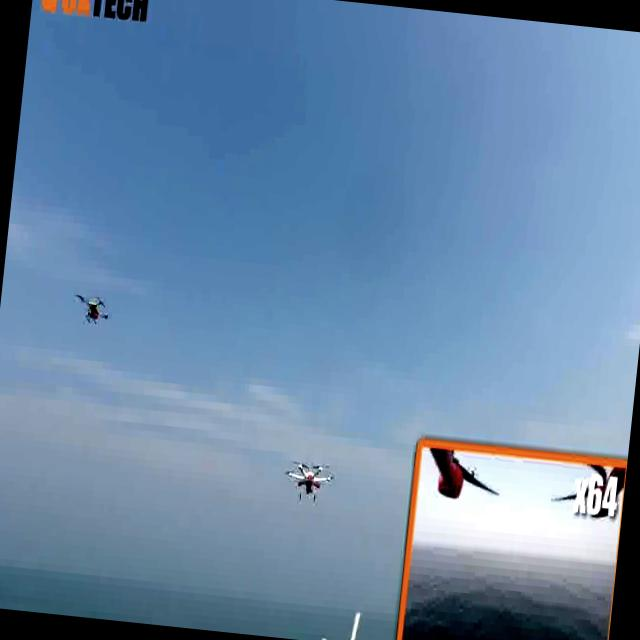drone: (272, 446, 342, 511), (70, 290, 112, 332)
